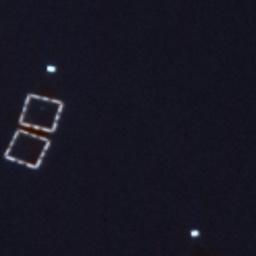square_solid: (2, 125, 53, 174), (14, 91, 67, 138)
